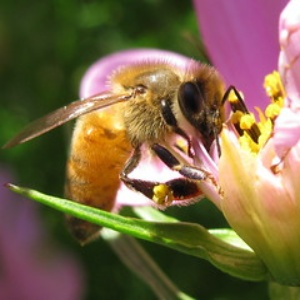bee: (9, 60, 236, 247)
